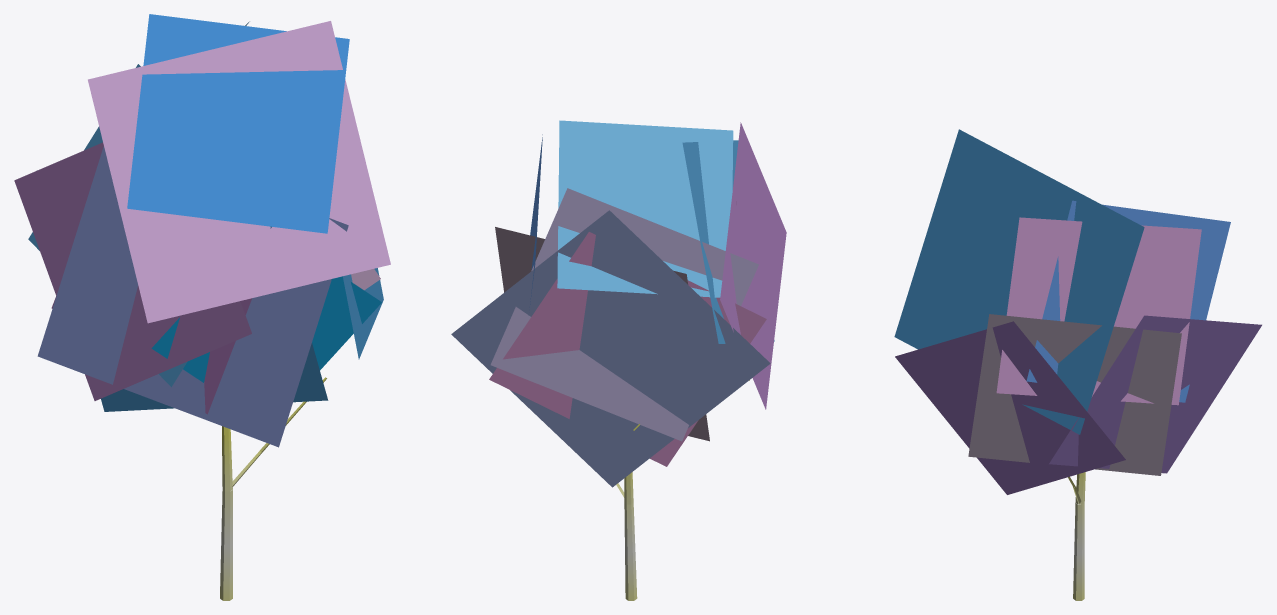
File: tree_birch_1.glb
The picture shows the model from 3 angles, left to right: view 1: azimuth 30°, elevation 25°; view 2: azimuth 150°, elevation 25°; view 3: azimuth 270°, elevation 25°; orthographic projection. The views are drawn at different scales.
Parts seen in each view (by area): view 1: tree_birch_1; view 2: tree_birch_1; view 3: tree_birch_1.
Boxes of the visible parts, box(x1,y1,x2,y2) form: tree_birch_1: box(14, 14, 390, 600); tree_birch_1: box(451, 120, 786, 600); tree_birch_1: box(894, 129, 1261, 600).
Size of the model in its own units: 7.05 by 11.84 by 7.75.
